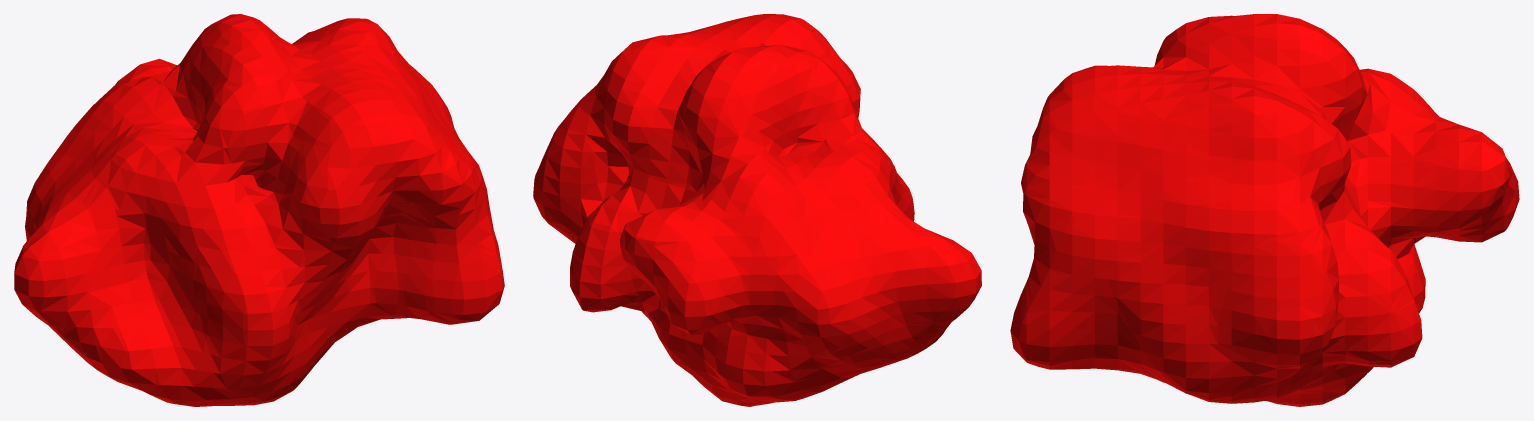
The model's file is secE_coarse.dae.
3 renders of one model, left to right at view 1: azimuth 30°, elevation 25°; view 2: azimuth 150°, elevation 25°; view 3: azimuth 270°, elevation 25°, orthographic. The views are drawn at different scales.
Visible parts, largest first — view 1: secE; view 2: secE; view 3: secE.
Part boxes in pixels (left/top/right/bottom): secE: left=14, top=14, right=504, bottom=406; secE: left=533, top=14, right=981, bottom=406; secE: left=1010, top=14, right=1519, bottom=406.
Bounding box in the file's own units: 117 × 88.08 × 103.
